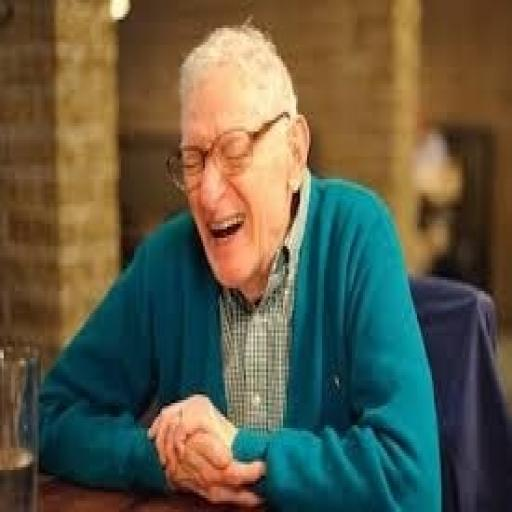laughing: (33, 17, 445, 506)
